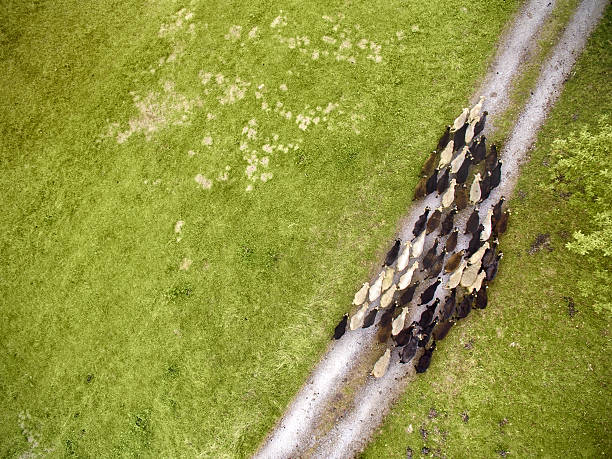sheep: (387, 305, 417, 336), (420, 273, 446, 303), (439, 290, 464, 318), (468, 91, 489, 123), (426, 248, 448, 278), (476, 209, 496, 242), (436, 161, 456, 194), (372, 349, 393, 380), (394, 261, 417, 289), (418, 165, 440, 194), (380, 236, 401, 266), (450, 143, 471, 173), (461, 204, 480, 237), (444, 247, 464, 278), (483, 249, 503, 280), (469, 173, 489, 204), (437, 138, 457, 169), (435, 127, 458, 153), (331, 311, 350, 342), (455, 155, 475, 184), (364, 304, 386, 330), (377, 280, 396, 310), (471, 134, 490, 163), (392, 324, 417, 346), (416, 342, 433, 374), (425, 204, 444, 232), (409, 208, 433, 230), (435, 207, 455, 233), (495, 204, 512, 234), (472, 282, 490, 310), (470, 106, 488, 134), (411, 229, 427, 260), (478, 174, 495, 203), (418, 299, 436, 326), (465, 227, 482, 255), (351, 302, 367, 331), (419, 241, 437, 266), (491, 159, 506, 189), (367, 271, 383, 299), (453, 105, 469, 132), (463, 260, 480, 285), (459, 294, 474, 322), (401, 338, 417, 364), (378, 263, 393, 290), (441, 227, 458, 250), (485, 142, 500, 168), (480, 243, 499, 263), (491, 198, 505, 224), (397, 241, 409, 271), (354, 280, 368, 305)
